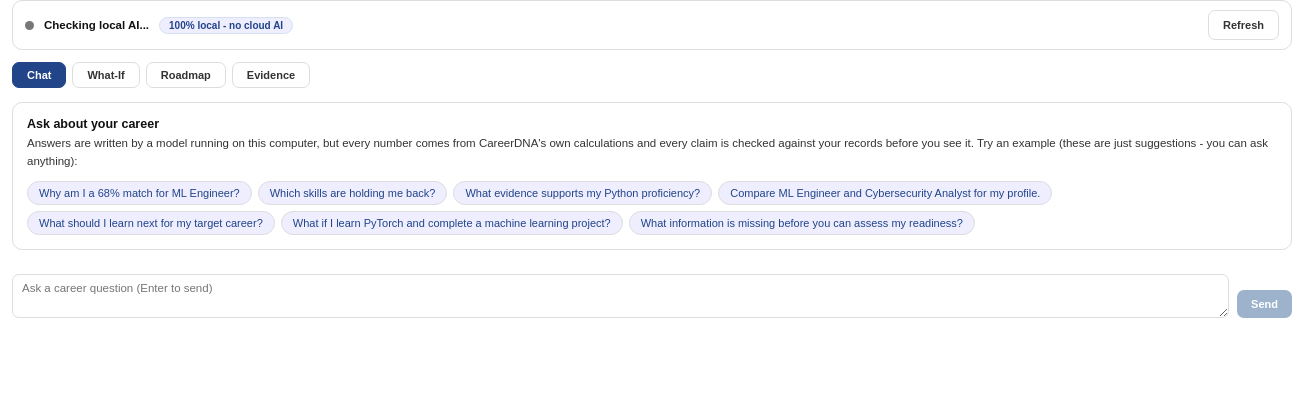
Scenario: what-if simulator › sends the chosen hypothetical changes and shows baseline vs scenario with causes and limits
Step 1. Click the button "What-If" → (106, 75), box [72, 62, 140, 88]
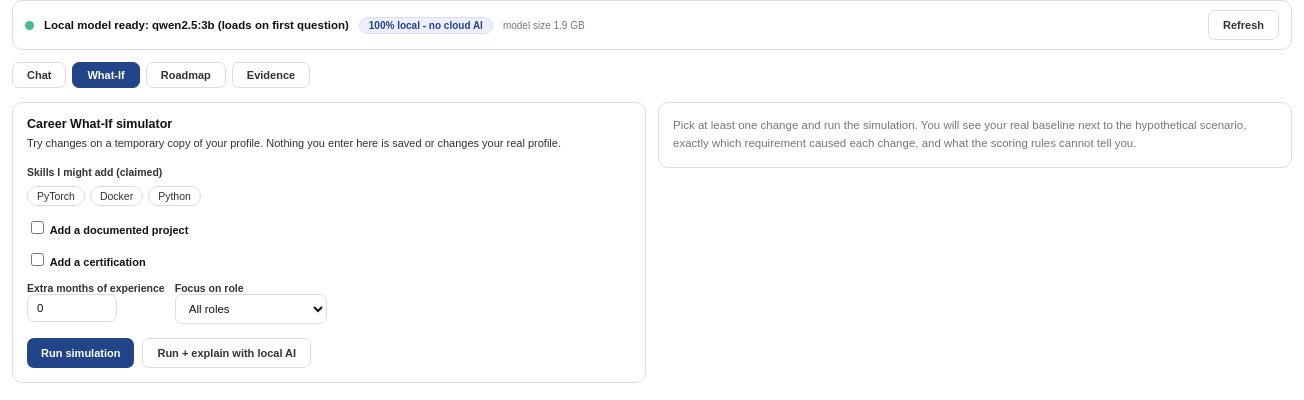
Step 2. Click the button "PyTorch" → (56, 196), box [27, 186, 85, 206]
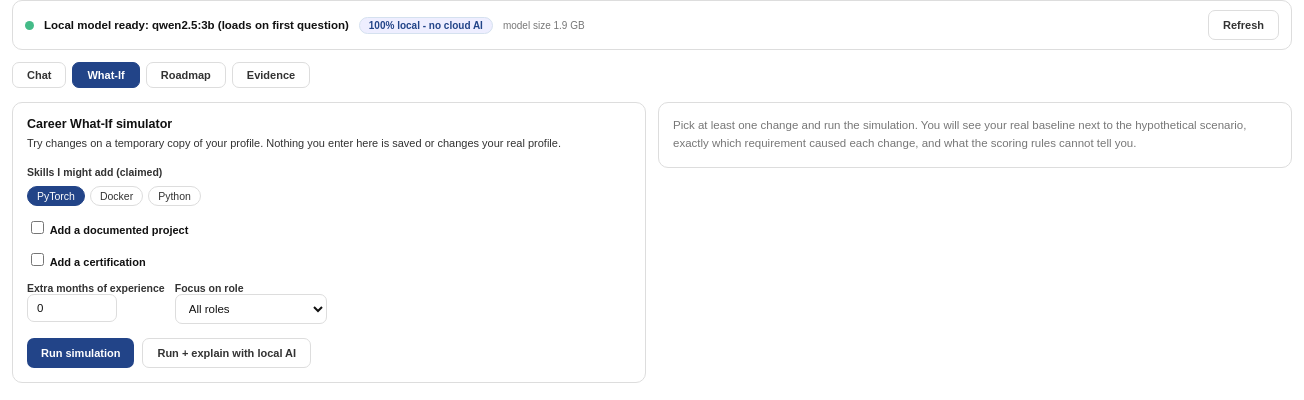
Step 3. Click the button "Run simulation" → (81, 352), box [27, 338, 134, 368]
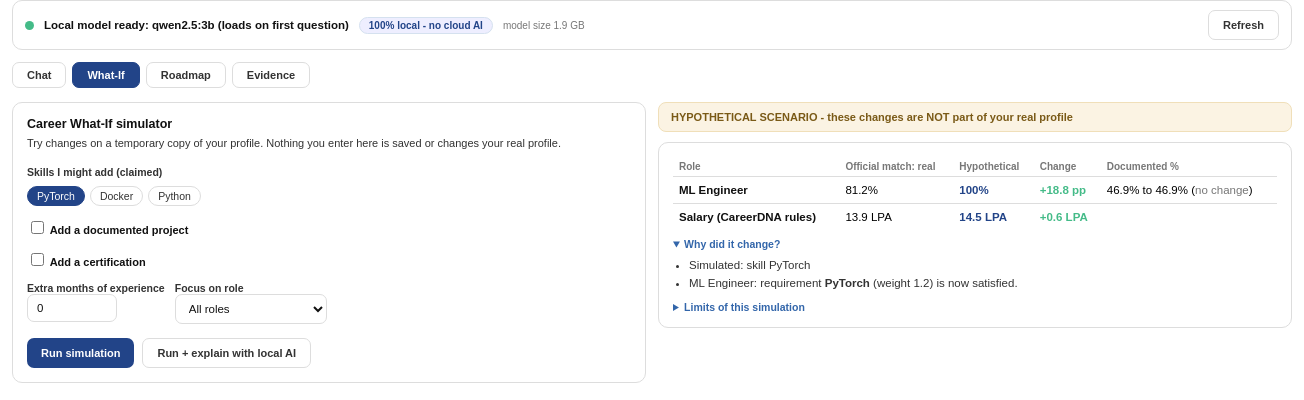
Expected: the text "HYPOTHETICAL SCENARIO" is shown, [671, 111, 1073, 123]
Expected: the text "81.2%" is shown, [839, 176, 953, 204]
Expected: the text "100%" is shown, [953, 176, 1034, 204]
